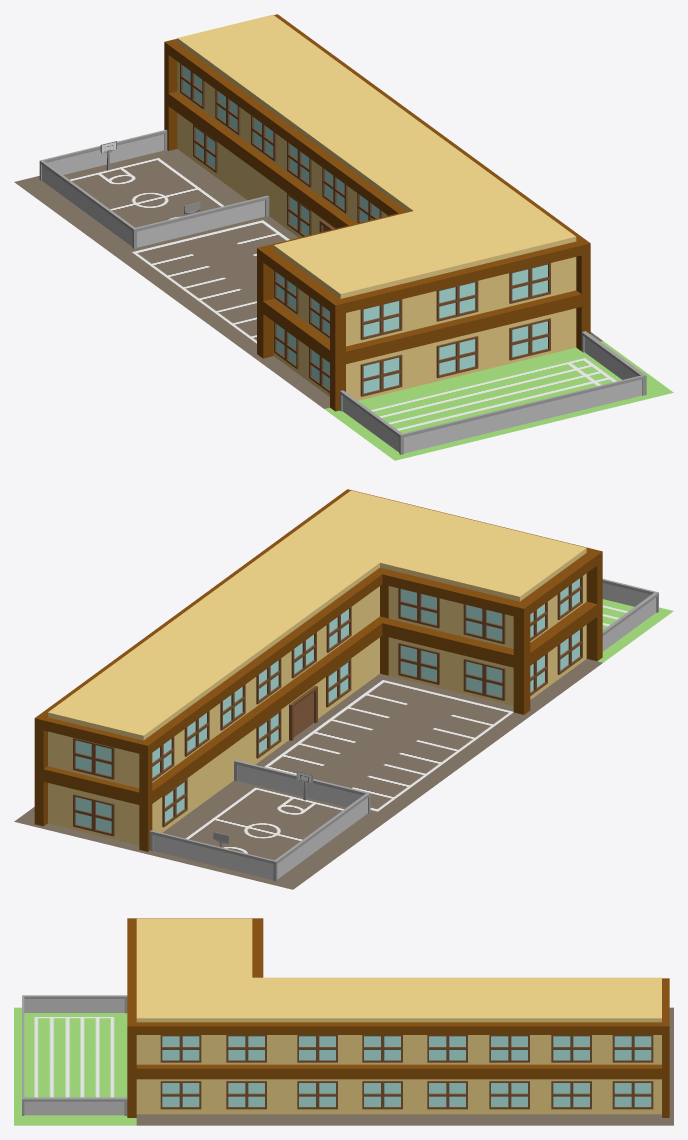
File: School.fbx
3 views of the same model, one above another, from view 1: azimuth 30°, elevation 25°; view 2: azimuth 150°, elevation 25°; view 3: azimuth 270°, elevation 25° (orthographic). The views are drawn at different scales.
Visible parts, largest first — view 1: Building, Fence3, Fence2, pPlane43, pPlane41, pPlane39, pPlane42, pPlane40, pPlane38, pPlane13, pPlane18, pPlane11 (+7 smaller); view 2: Building, Fence2, Fence3, pPlane15, pPlane37, pPlane14, pPlane36, pPlane10, pPlane9, Door2, pPlane13, pPlane12 (+9 smaller); view 3: Building, Fence3, pPlane35, pPlane28, pPlane34, pPlane33, pPlane32, pPlane31, pPlane30, pPlane29, pPlane26, pPlane20 (+6 smaller).
Boxes of the visible parts, x1,y1,x2,y2 form: Building: (14, 14, 673, 460); Fence3: (340, 331, 646, 454); Fence2: (39, 130, 269, 248); pPlane43: (360, 354, 402, 396); pPlane41: (436, 336, 478, 378); pPlane39: (509, 318, 550, 360); pPlane42: (360, 299, 402, 339); pPlane40: (436, 281, 478, 321); pPlane38: (509, 263, 550, 303); pPlane13: (193, 124, 217, 173); pPlane18: (274, 322, 298, 369); pPlane11: (287, 193, 311, 236); Building: (14, 489, 673, 889); Fence2: (149, 760, 370, 881); Fence3: (602, 579, 658, 651); pPlane15: (463, 658, 505, 700); pPlane37: (73, 794, 114, 836); pPlane14: (398, 642, 439, 684); pPlane36: (73, 738, 114, 779); pPlane10: (463, 604, 505, 644); pPlane9: (398, 588, 439, 628); Door2: (289, 686, 317, 740); pPlane13: (162, 778, 187, 827); pPlane12: (326, 659, 351, 707); Building: (14, 918, 673, 1125); Fence3: (22, 995, 127, 1115); pPlane35: (612, 1081, 653, 1109); pPlane28: (160, 1081, 201, 1109); pPlane34: (551, 1081, 591, 1109); pPlane33: (489, 1081, 529, 1109); pPlane32: (427, 1081, 467, 1109); pPlane31: (362, 1081, 402, 1109); pPlane30: (297, 1081, 337, 1109); pPlane29: (226, 1081, 266, 1109); pPlane26: (160, 1035, 201, 1062); pPlane20: (612, 1035, 653, 1062).
Bounding box in the file's own units: 124 × 47.49 × 292.
Materials: 5 (5 with a texture image).
